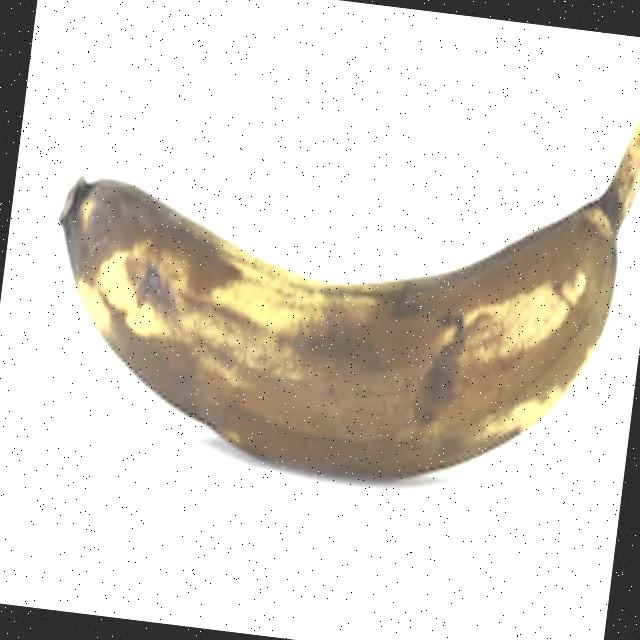Rotten: (12, 0, 640, 551)
